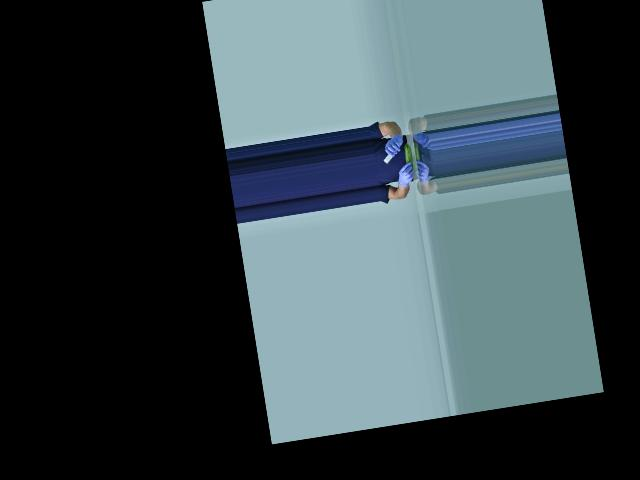cucumber: (403, 142, 414, 170)
